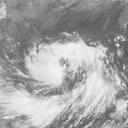cyclone: (21, 41, 67, 89)
